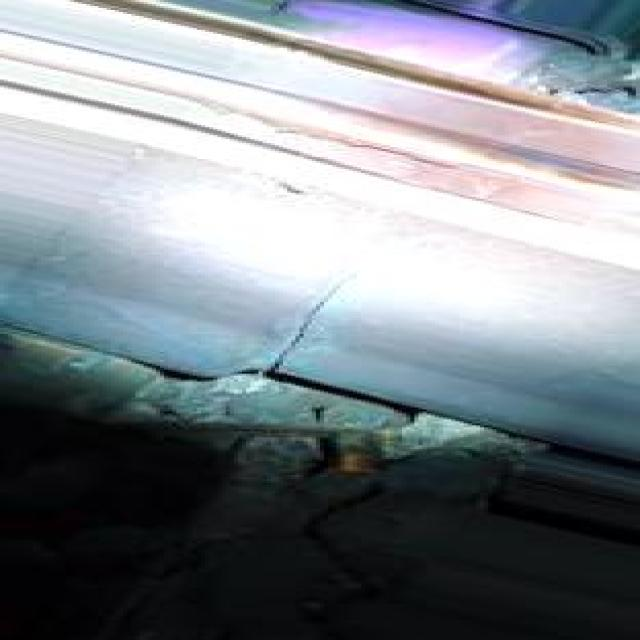crack: (157, 143, 507, 420)
